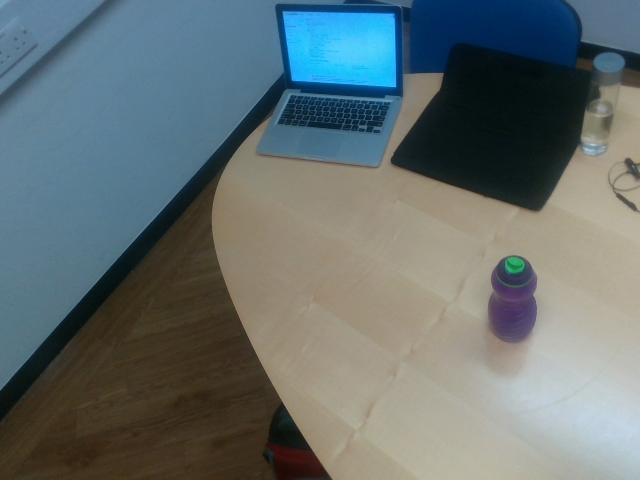bottle: (488, 255, 540, 345)
